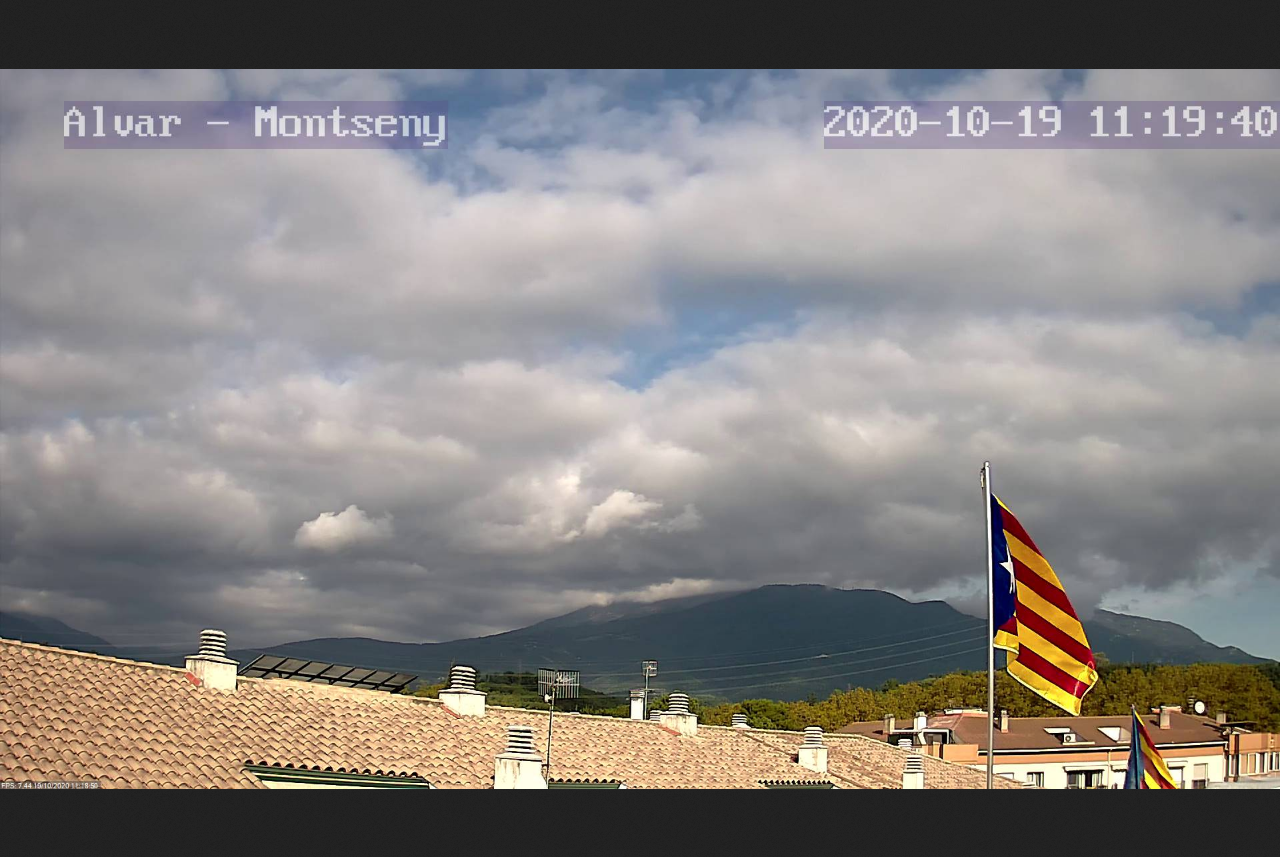maybe: (982, 487, 1102, 722)
